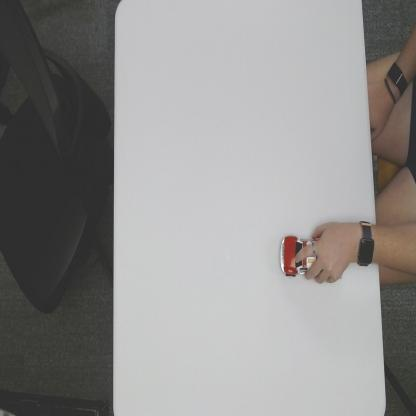Firetruck: (280, 229, 335, 279)
Hand: (295, 217, 353, 285)
